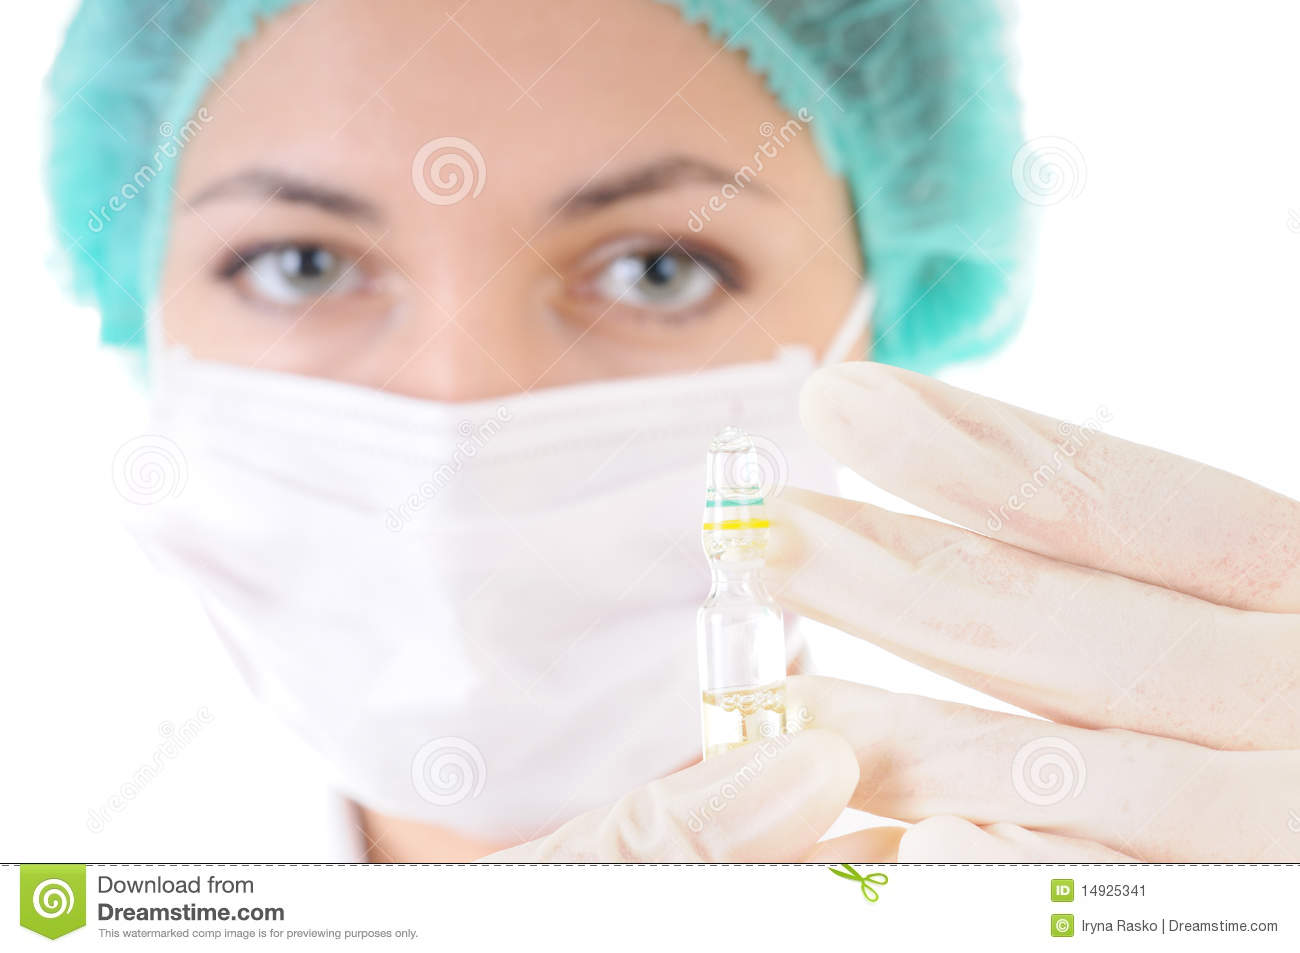mask: (155, 367, 795, 833)
